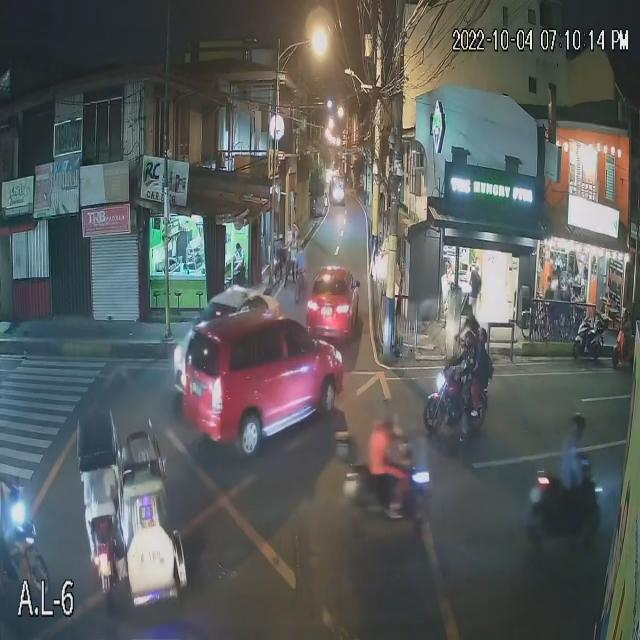helmet: (564, 413, 590, 441), (457, 332, 480, 354)
motorcycle: (337, 433, 434, 531), (529, 460, 603, 553), (422, 362, 491, 445), (0, 505, 52, 589), (573, 310, 610, 365)
rider: (366, 427, 408, 519), (557, 441, 591, 510), (451, 357, 491, 412)
